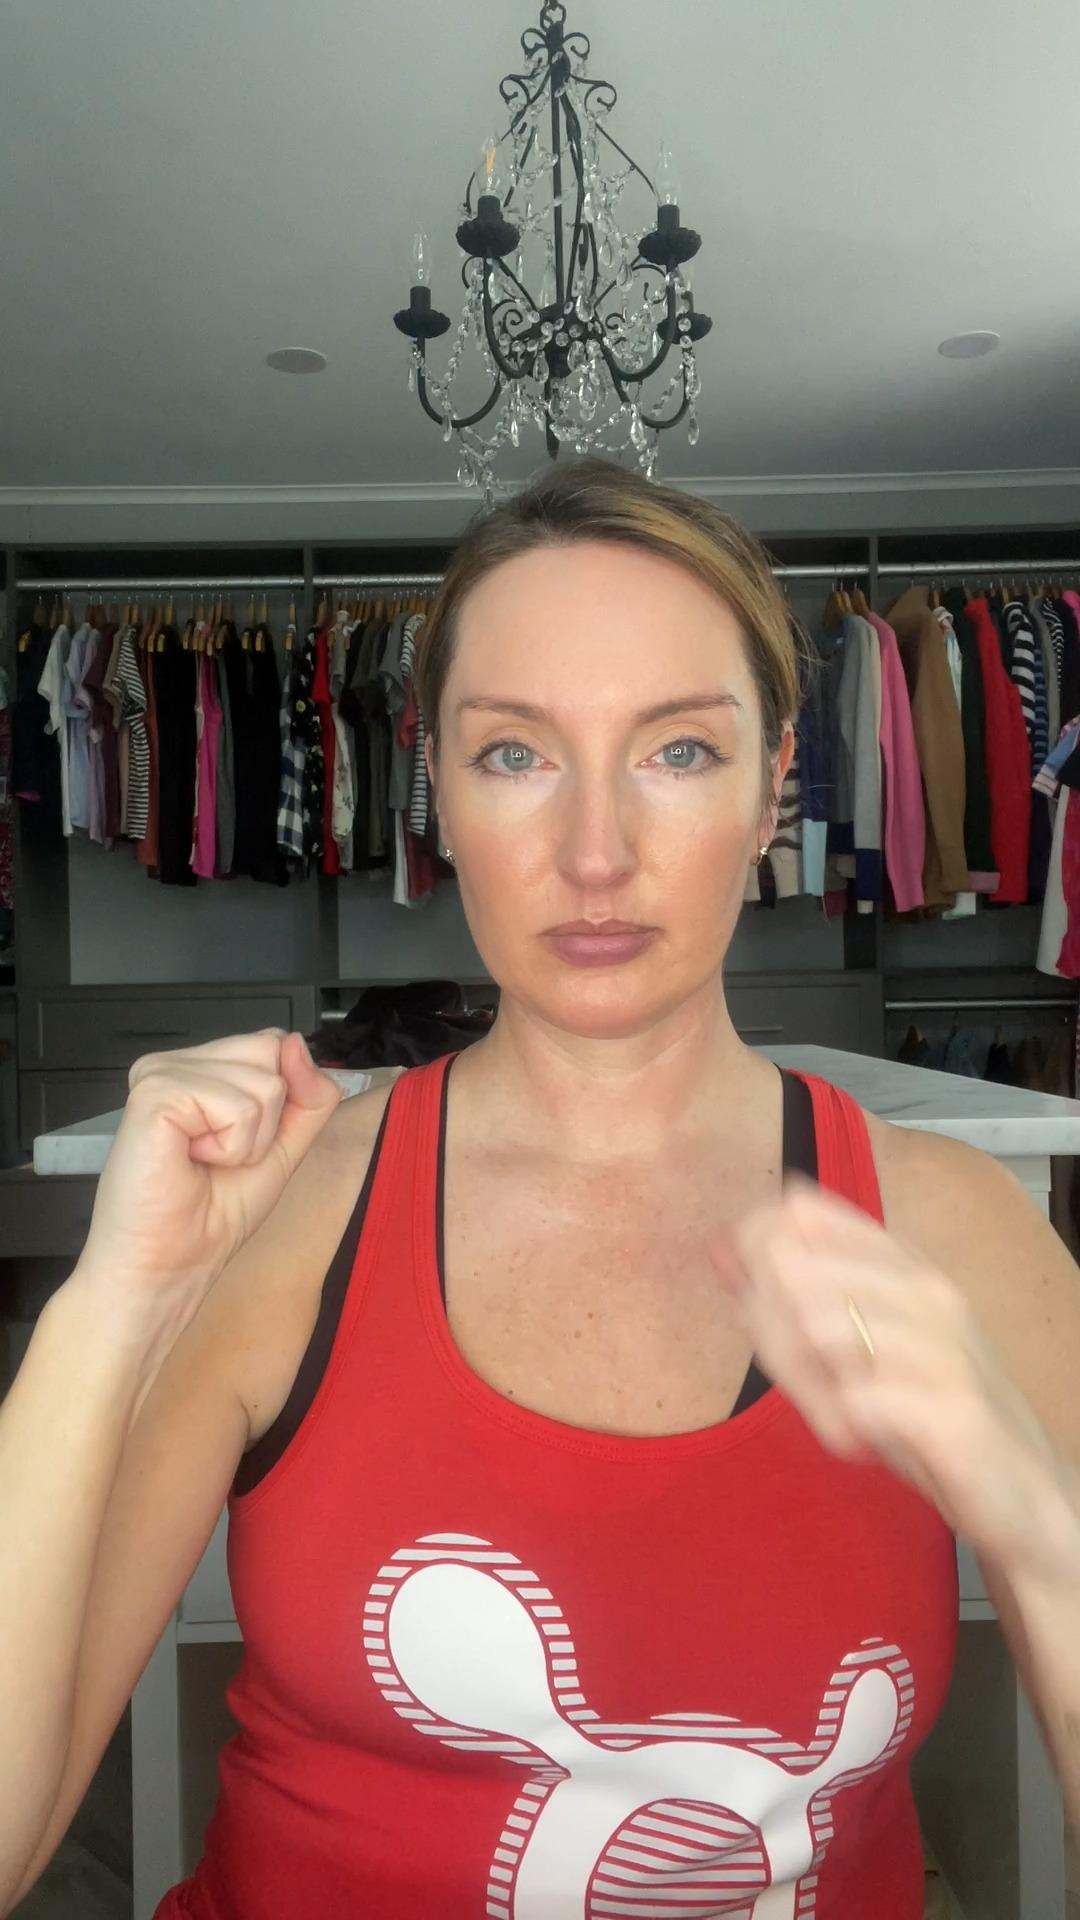Rock: (83, 1030, 343, 1287)
